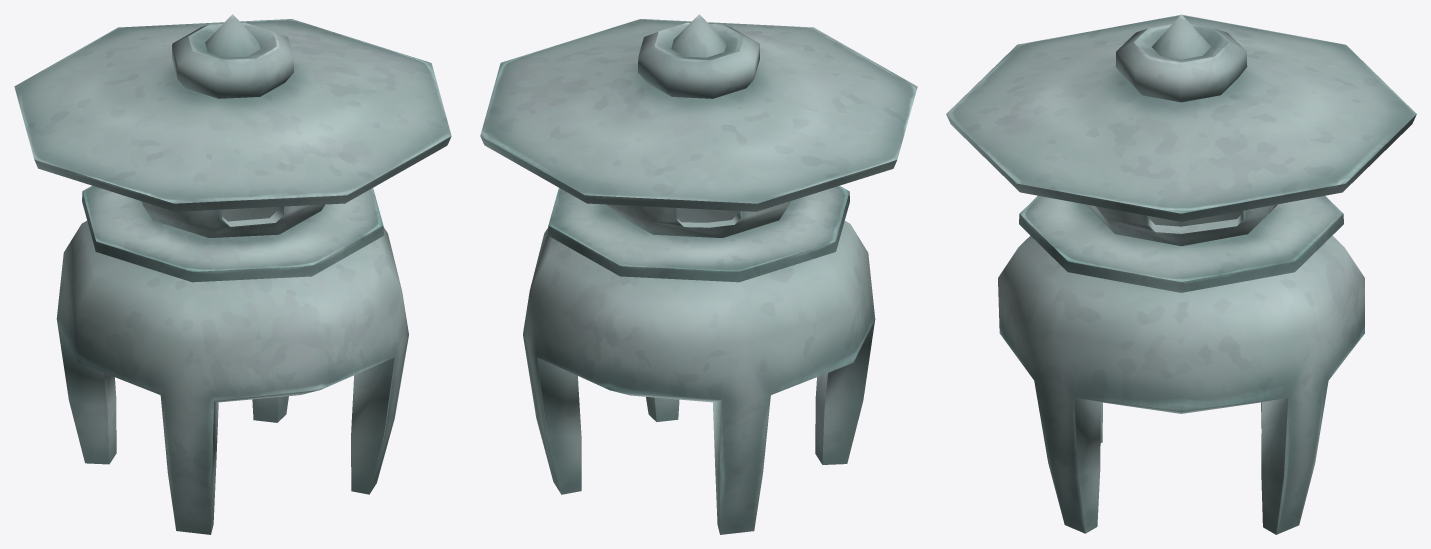
The model's file is SM_Enviro_Lantern02.fbx.
The picture shows the model from 3 angles, left to right: view 1: azimuth 30°, elevation 25°; view 2: azimuth 150°, elevation 25°; view 3: azimuth 270°, elevation 25°; orthographic projection. The views are drawn at different scales.
Parts seen in each view (by area): view 1: SM_Enviro_Lantern02; view 2: SM_Enviro_Lantern02; view 3: SM_Enviro_Lantern02.
Boxes of the visible parts, x1,y1,x2,y2 form: SM_Enviro_Lantern02: (14, 14, 451, 534); SM_Enviro_Lantern02: (480, 14, 917, 534); SM_Enviro_Lantern02: (946, 14, 1416, 534).
Size of the model in its own units: 145 by 160 by 145.
